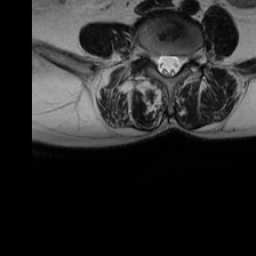CCS_normal: (164, 45, 172, 83)
LFS_normal: (181, 45, 191, 70)
LLS_normal: (172, 45, 181, 78)
RFS_normal: (147, 42, 155, 69)
RLS_normal: (155, 46, 164, 78)
